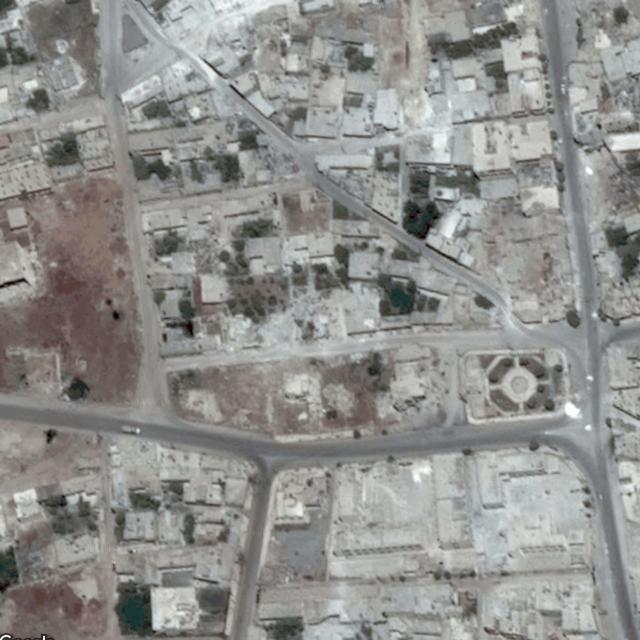damaged_building: (222, 290, 346, 352), (402, 83, 456, 173)
